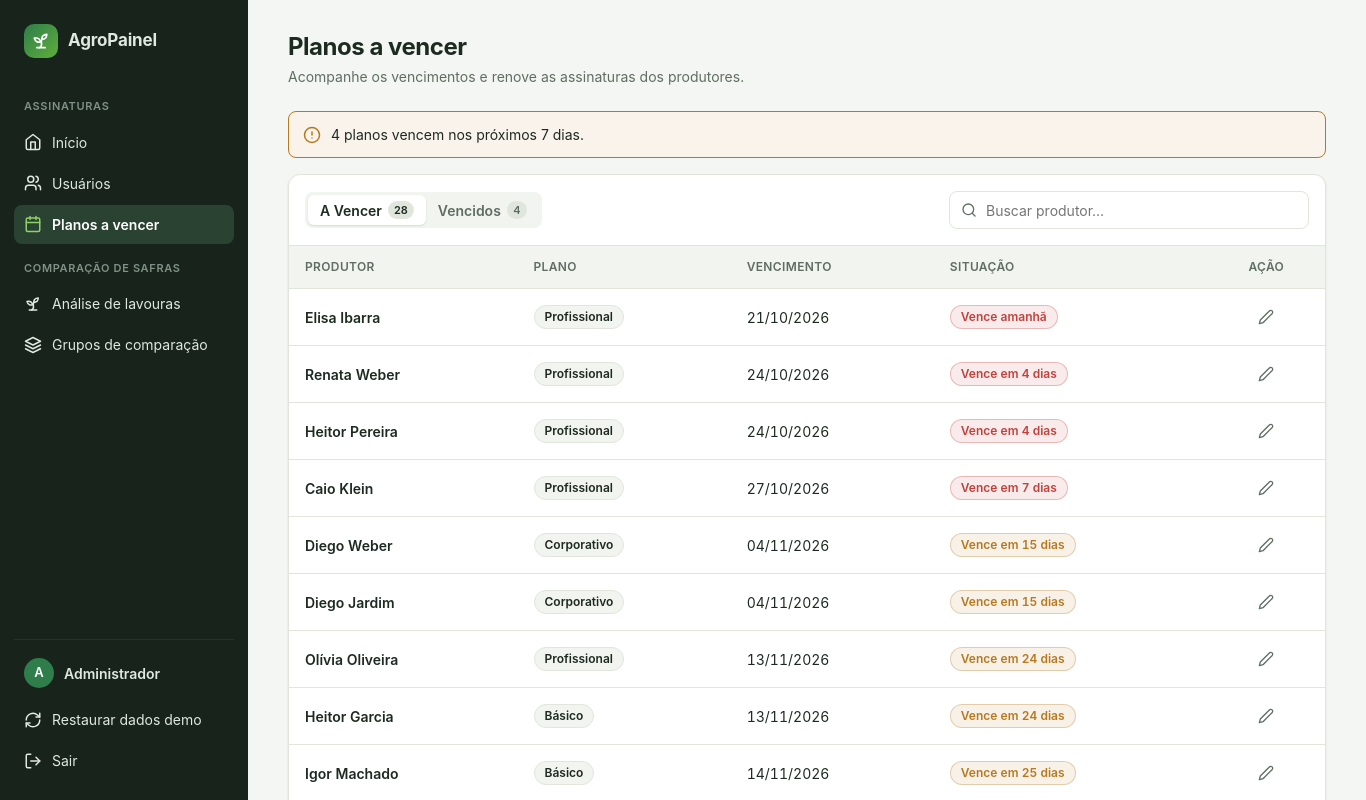
Planos a vencer › separa planos a vencer e vencidos em abas
Expected: the text "A vencer" reads "28", [394, 203, 408, 217]
Expected: the text "Vencidos" reads "4", [513, 203, 520, 217]
Click the tab "Vencidos 4": [483, 210] box [426, 195, 539, 225]
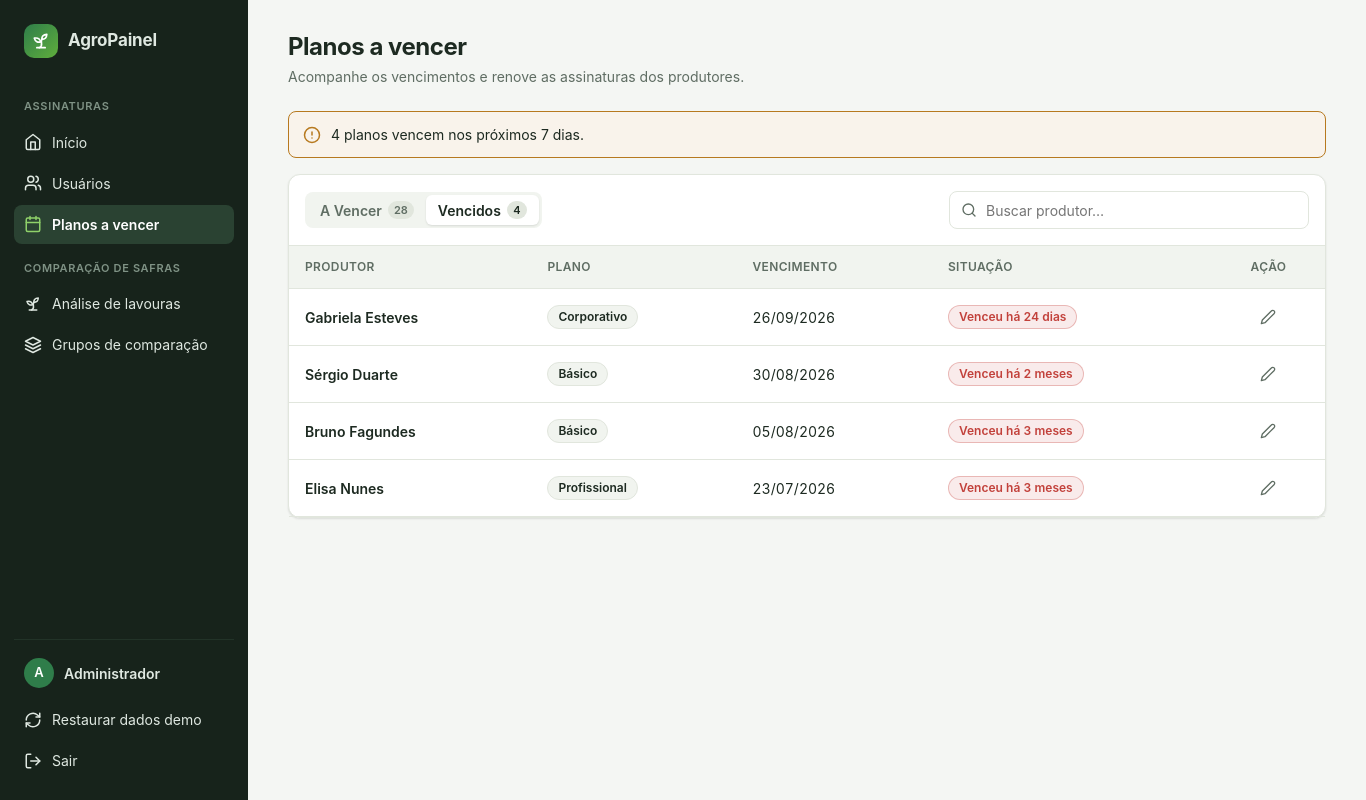
Expected: the text with class "badge--expired" reads "Venceu há 24 dias", [948, 305, 1078, 329]
Expected: the text with class "badge--expired" reads "Venceu há 2 meses", [948, 362, 1084, 386]
Expected: the text with class "badge--expired" in the row of "Bruno Fagundes" reads "Venceu há 3 meses", [948, 419, 1084, 443]
